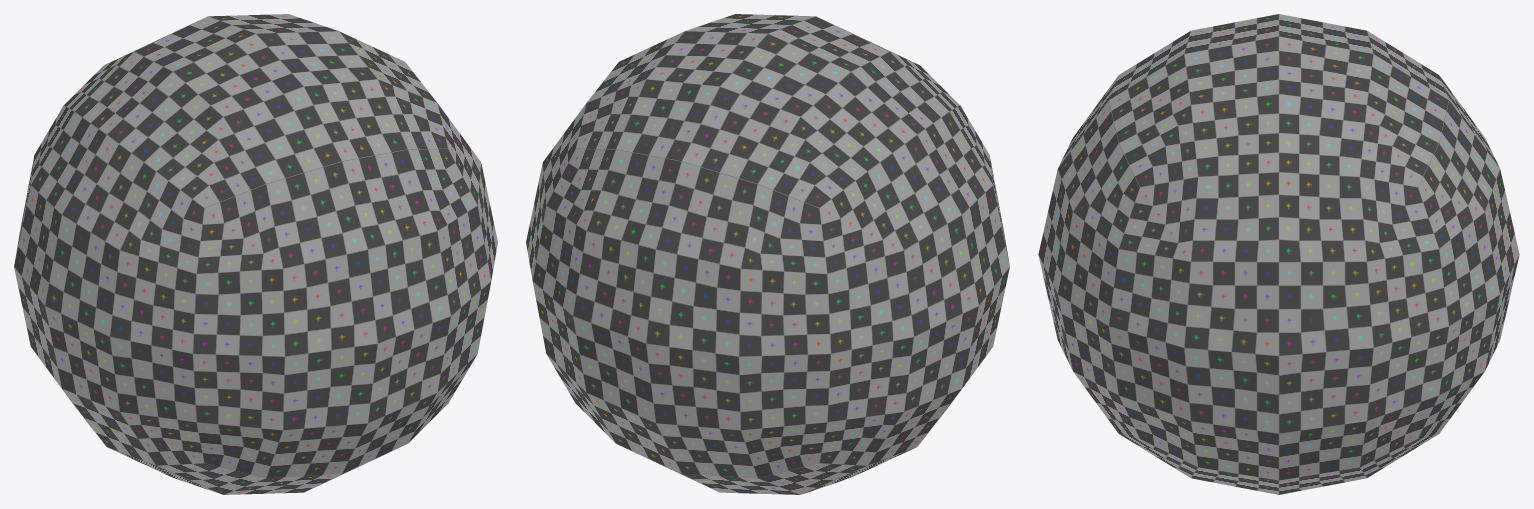
Rendered from LimitMatrix.gltf.
3 renders of one model, left to right at view 1: azimuth 30°, elevation 25°; view 2: azimuth 150°, elevation 25°; view 3: azimuth 270°, elevation 25°, orthographic.
Parts seen in each view (by area): view 1: LimitMatrix; view 2: LimitMatrix; view 3: LimitMatrix.
Part boxes in pixels (x1,y1,x2,y2): LimitMatrix: [14, 14, 497, 494]; LimitMatrix: [526, 14, 1009, 494]; LimitMatrix: [1038, 14, 1519, 494].
Size of the model in its own units: 5909305 by 5909305 by 5909305.
Materials: 1 (1 with a texture image).
